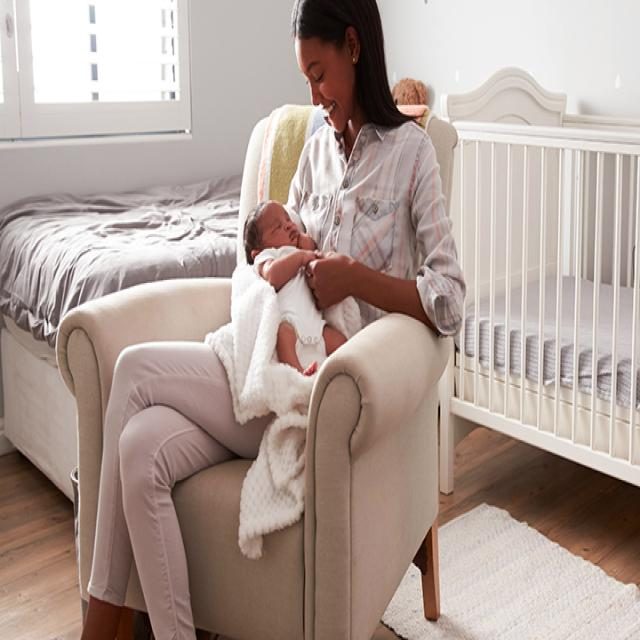adult: (80, 0, 468, 640)
child: (242, 198, 366, 375)
